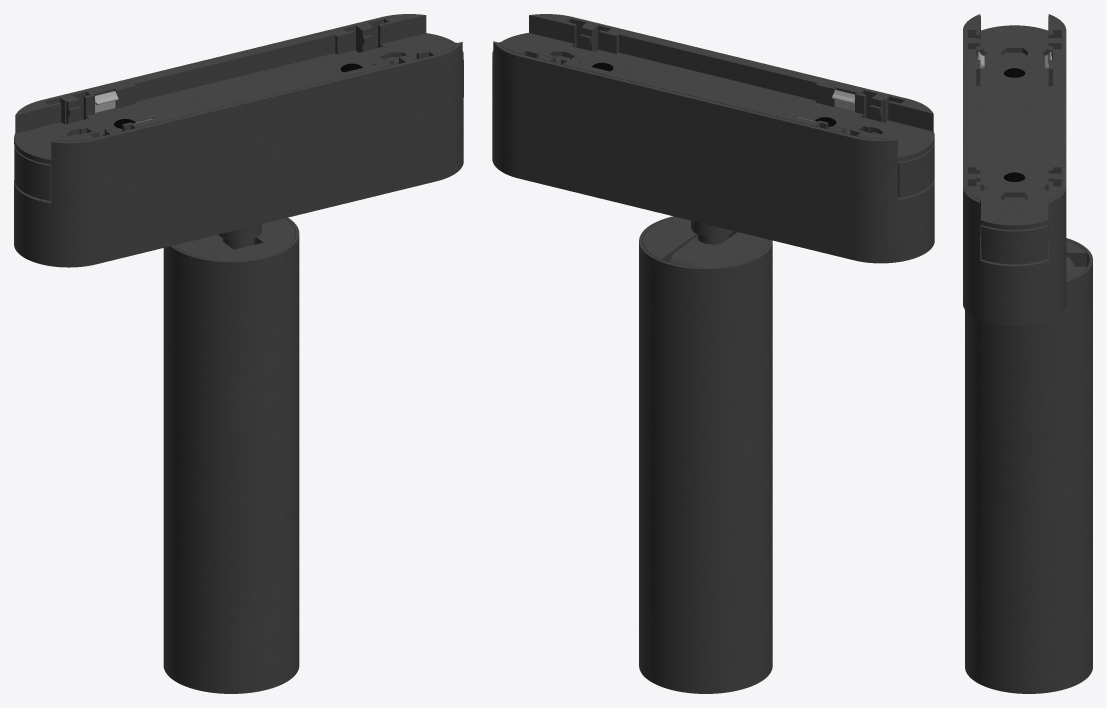
3 views of the same model, side by side, from view 1: azimuth 30°, elevation 25°; view 2: azimuth 150°, elevation 25°; view 3: azimuth 270°, elevation 25° (orthographic). The views are drawn at different scales.
Parts seen in each view (by area): view 1: Sphere; view 2: Sphere; view 3: Sphere.
Part boxes in pixels (x1,y1,x2,y2): Sphere: (14,14,463,693); Sphere: (492,14,934,693); Sphere: (963,14,1092,693).
Size of the model in its own units: 0.1147 by 0.1493 by 0.0315.
9 materials, 1 textured.
